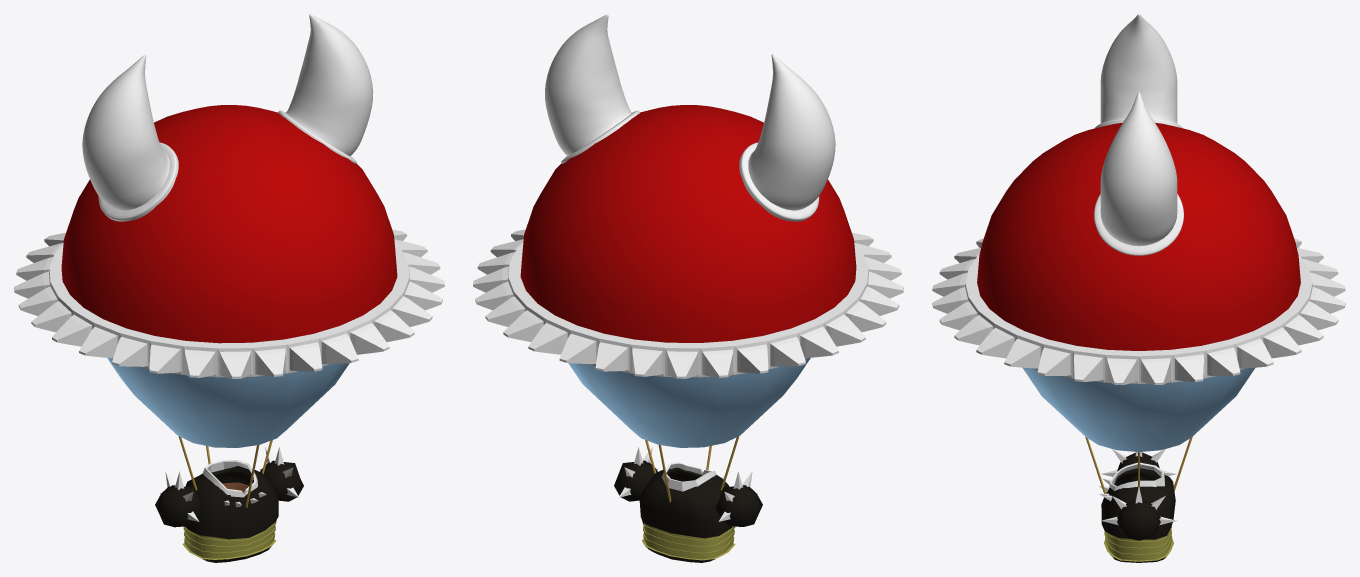
File: Lv5_FB_Spiker.FBX
3 renders of one model, left to right at view 1: azimuth 30°, elevation 25°; view 2: azimuth 150°, elevation 25°; view 3: azimuth 270°, elevation 25°, orthographic. The views are drawn at different scales.
Parts seen in each view (by area): view 1: Sphere002, Sphere001, Pyramid002, Cylinder003, Cylinder004; view 2: Sphere002, Sphere001, Pyramid002, Cylinder003, Cylinder004; view 3: Sphere002, Sphere001, Cylinder004, Pyramid002, Cylinder003.
Part boxes in pixels (<box>): Sphere002: <box>14,105,444,378</box>; Sphere001: <box>107,358,349,447</box>; Pyramid002: <box>155,447,303,562</box>; Cylinder003: <box>82,54,178,221</box>; Cylinder004: <box>278,14,373,163</box>; Sphere002: <box>473,105,903,378</box>; Sphere001: <box>568,358,810,447</box>; Pyramid002: <box>614,447,762,562</box>; Cylinder003: <box>739,54,835,221</box>; Cylinder004: <box>545,14,639,163</box>; Sphere002: <box>932,122,1345,384</box>; Sphere001: <box>1022,367,1255,451</box>; Cylinder004: <box>1094,91,1183,255</box>; Pyramid002: <box>1099,449,1176,562</box>; Cylinder003: <box>1094,14,1183,128</box>.
Size of the model in its own units: 180 by 238 by 180.
